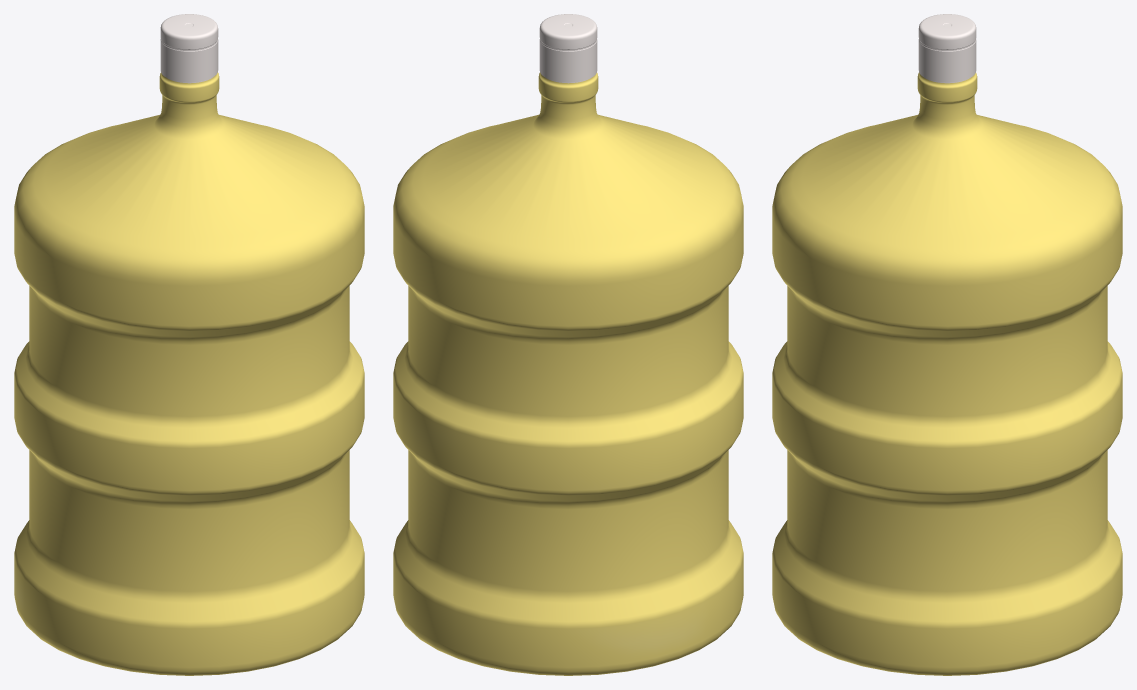
Rendered from BigWaterBottleFuel.fbx.
3 renders of one model, left to right at view 1: azimuth 30°, elevation 25°; view 2: azimuth 150°, elevation 25°; view 3: azimuth 270°, elevation 25°, orthographic.
Parts seen in each view (by area): view 1: BigWaterBottleFuel; view 2: BigWaterBottleFuel; view 3: BigWaterBottleFuel.
Part boxes in pixels (x1,y1,x2,y2): BigWaterBottleFuel: (14, 14, 364, 675); BigWaterBottleFuel: (393, 14, 743, 675); BigWaterBottleFuel: (772, 14, 1122, 675).
Size of the model in its own units: 0.2237 by 0.4089 by 0.2237.
